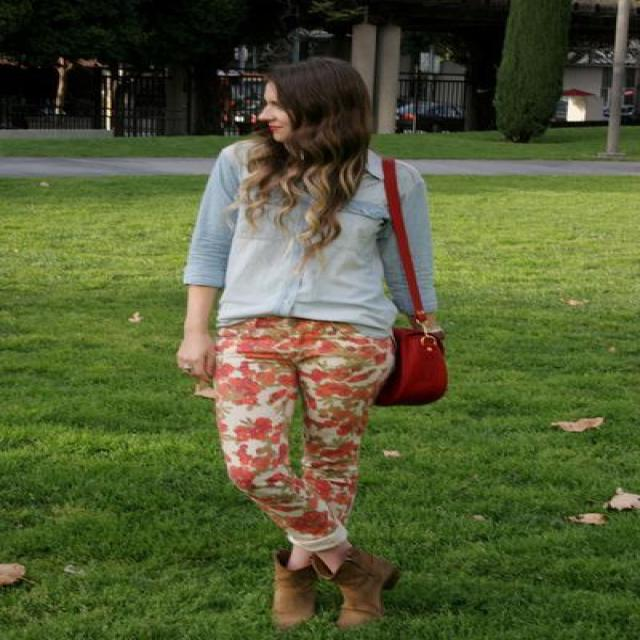bag: (356, 155, 446, 405)
pants: (195, 312, 394, 550)
shirt: (182, 141, 445, 344)
shoe: (260, 536, 382, 639)
